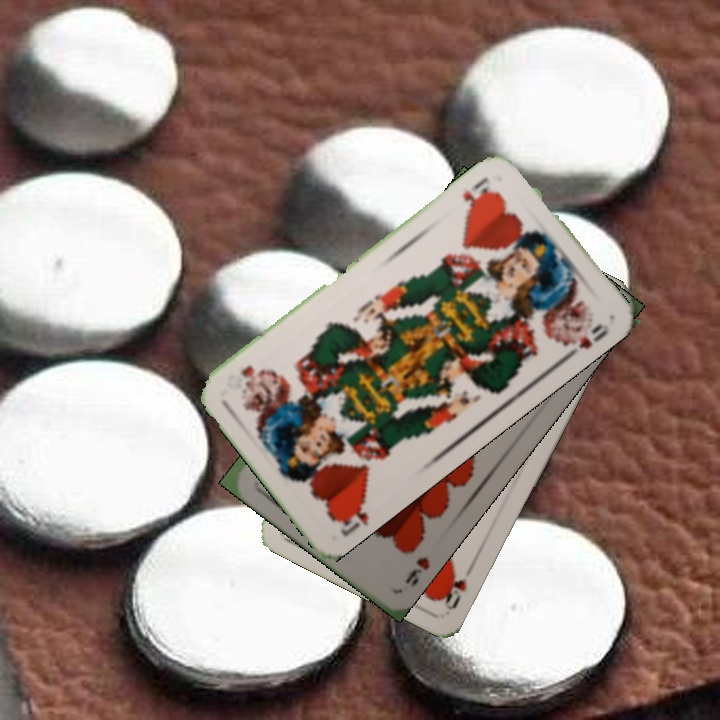H9: (400, 553, 433, 591)
HO: (436, 558, 475, 613), (329, 493, 372, 539), (458, 173, 495, 215)
